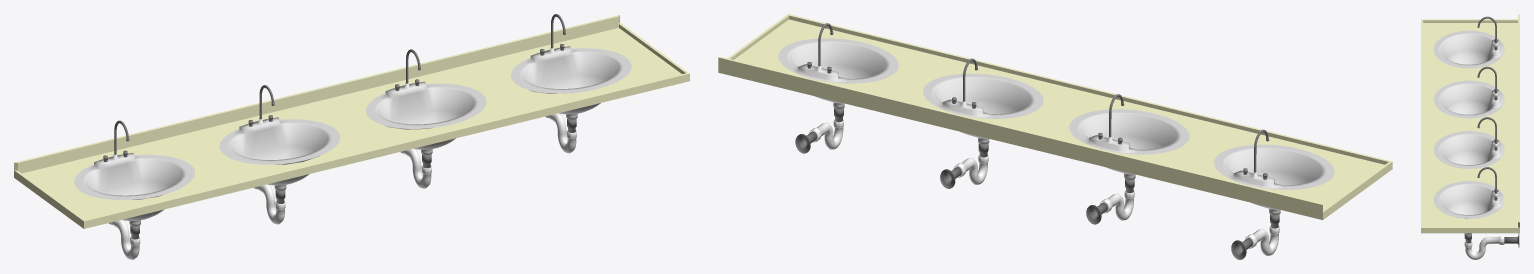
File: Pia.fbx
The picture shows the model from 3 angles, left to right: view 1: azimuth 30°, elevation 25°; view 2: azimuth 150°, elevation 25°; view 3: azimuth 270°, elevation 25°; orthographic projection. The views are drawn at different scales.
Parts seen in each view (by area): view 1: Cube, Base.001, Base.003, Base.004, Base.002, Cano_2.003, Cano_2.002, Cano_2.001, Cano_2.004; view 2: Cube, Base.004, Base.001, Base.002, Base.003, Cano_2.001, Cano_2.004, Cano_2.003, Cano_2.002; view 3: Cube, Base.004, Base.002, Base.001, Base.003, Cano_2.004, Cano_3.004, Circle.003, Circle.002, Circle.001, Circle.004, Cano_1.004.
Part boxes in pixels (x1,y1,x2,y2): Cube: [14, 15, 689, 228]; Base.001: [219, 117, 340, 190]; Base.003: [366, 81, 486, 154]; Base.004: [511, 46, 631, 119]; Base.002: [74, 153, 194, 226]; Cano_2.003: [400, 148, 431, 188]; Cano_2.002: [108, 220, 140, 259]; Cano_2.001: [254, 184, 285, 224]; Cano_2.004: [545, 113, 576, 153]; Cube: [718, 14, 1392, 219]; Base.004: [778, 38, 898, 108]; Base.001: [1069, 109, 1189, 179]; Base.002: [1214, 144, 1334, 215]; Base.003: [923, 73, 1043, 144]; Cano_2.001: [1100, 190, 1134, 220]; Cano_2.004: [809, 119, 843, 149]; Cano_2.003: [954, 155, 988, 184]; Cano_2.002: [1245, 225, 1279, 255]; Cube: [1421, 14, 1519, 233]; Base.004: [1433, 181, 1504, 233]; Base.002: [1433, 30, 1504, 68]; Base.001: [1433, 80, 1504, 118]; Base.003: [1433, 131, 1504, 168]; Cano_2.004: [1464, 236, 1504, 259]; Cano_3.004: [1504, 233, 1519, 247]; Circle.003: [1477, 117, 1496, 143]; Circle.002: [1477, 16, 1496, 43]; Circle.001: [1477, 66, 1496, 93]; Circle.004: [1477, 167, 1496, 193]; Cano_1.004: [1464, 233, 1471, 243].
Bounding box in the file's own units: 2500 × 519 × 500.
